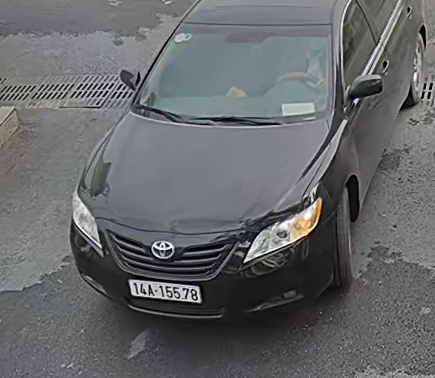vehicle plate: (123, 275, 208, 305)
